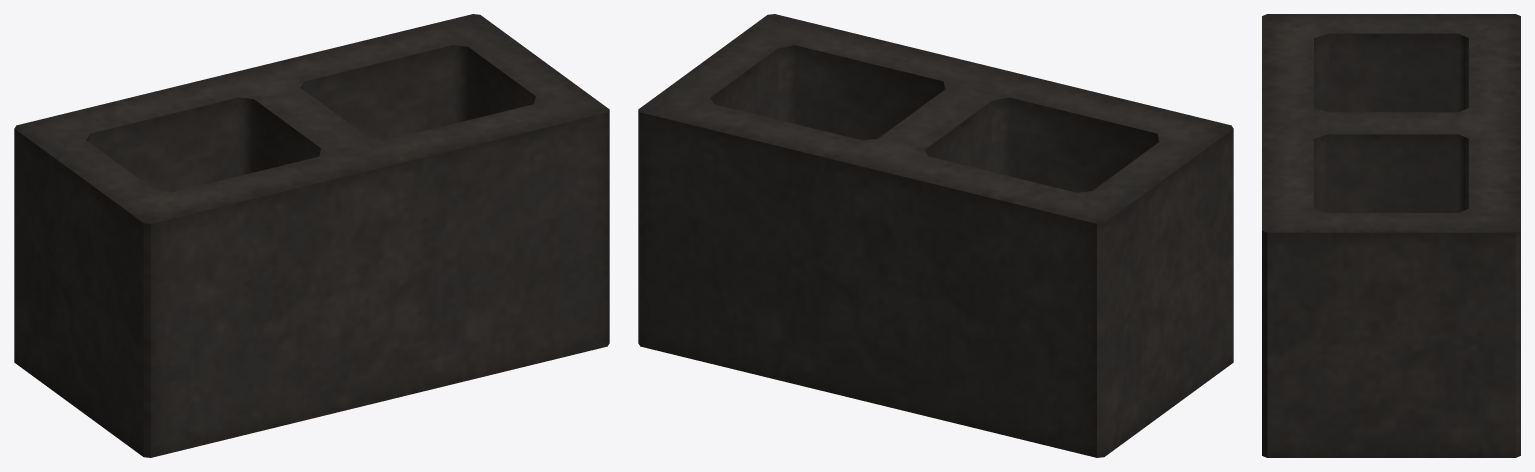
Rendered from concrete_block_1.obj.
3 renders of one model, left to right at view 1: azimuth 30°, elevation 25°; view 2: azimuth 150°, elevation 25°; view 3: azimuth 270°, elevation 25°, orthographic. The views are drawn at different scales.
Visible parts, largest first — view 1: concrete_block_1; view 2: concrete_block_1; view 3: concrete_block_1.
Boxes of the visible parts, x1,y1,x2,y2 form: concrete_block_1: (14,14,609,457); concrete_block_1: (638,14,1233,457); concrete_block_1: (1262,14,1520,457).
Size of the model in its own units: 0.432 by 0.2074 by 0.216.
